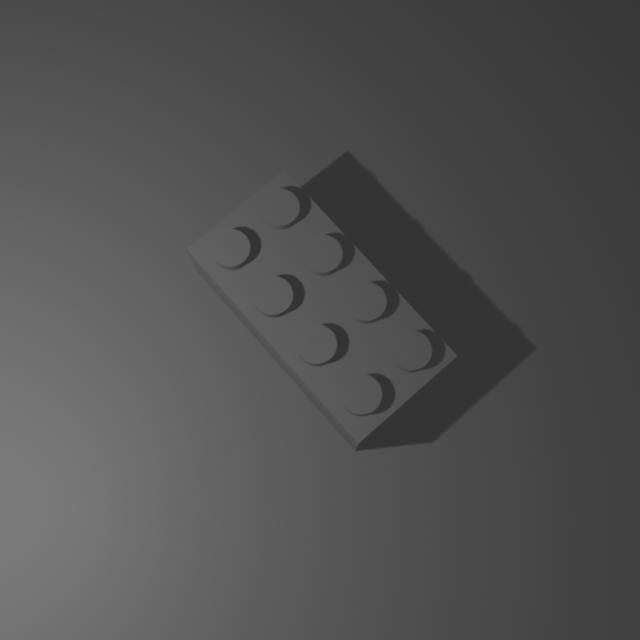lego_2x4: (185, 165, 459, 451)
